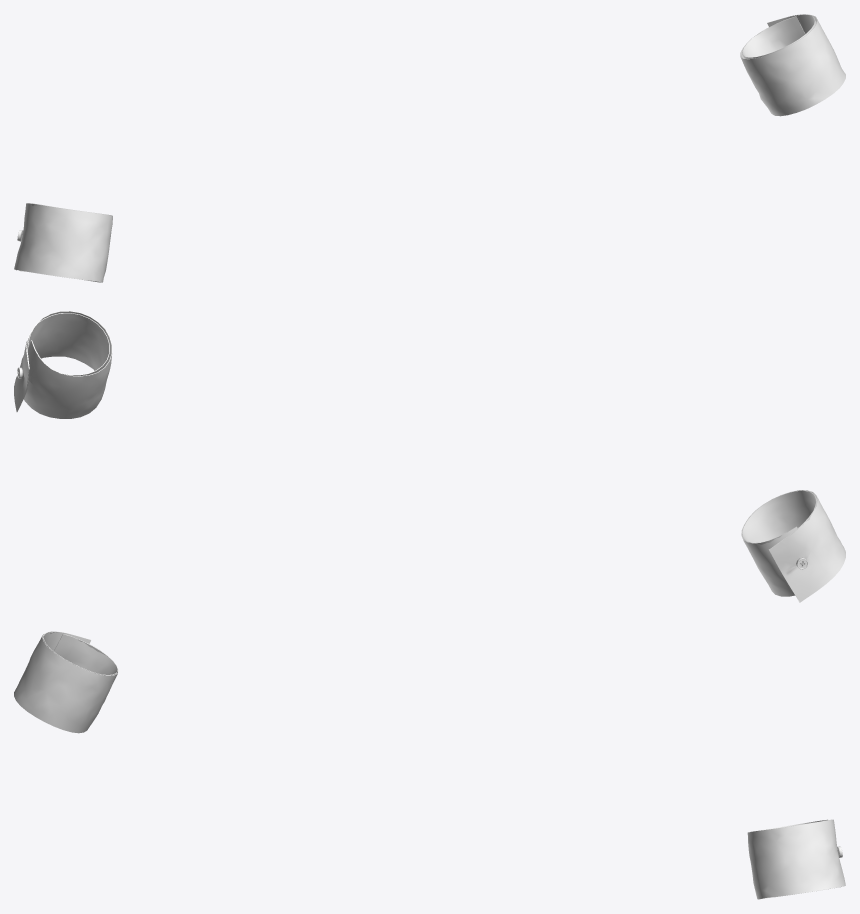
The model's file is single-button-cuff.glb.
3 renders of one model, top to bottom at view 1: azimuth 30°, elevation 25°; view 2: azimuth 150°, elevation 25°; view 3: azimuth 330°, elevation 25°, orthographic.
Parts seen in each view (by area): view 1: Cuffs_1_Node, Cuffs_Node, Cuffs_5_Node; view 2: Cuffs_1_Node, Cuffs_Node, Cuffs_5_Node, Cuffs_2_Node; view 3: Cuffs_Node, Cuffs_1_Node, Cuffs_2_Node.
Boxes of the visible parts, bbox=[...] form: Cuffs_1_Node: bbox=[14, 203, 112, 282]; Cuffs_Node: bbox=[740, 14, 845, 116]; Cuffs_5_Node: bbox=[742, 14, 816, 58]; Cuffs_1_Node: bbox=[741, 490, 845, 601]; Cuffs_Node: bbox=[14, 311, 112, 418]; Cuffs_5_Node: bbox=[17, 313, 109, 411]; Cuffs_2_Node: bbox=[742, 490, 816, 602]; Cuffs_Node: bbox=[747, 819, 845, 899]; Cuffs_1_Node: bbox=[14, 632, 118, 733]; Cuffs_2_Node: bbox=[43, 631, 117, 675].
Bounding box in the file's own units: 0.8348 × 0.087 × 0.1009.
2 materials, 2 textured.
